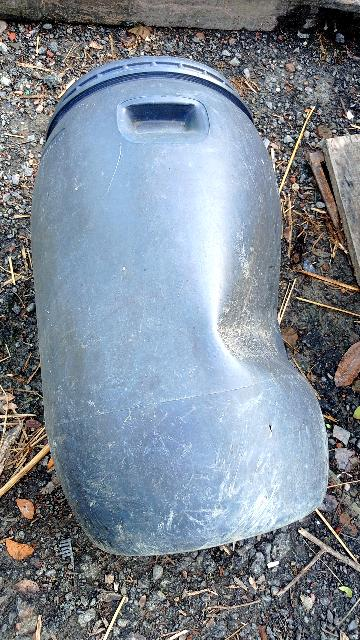hardplastic: (4, 45, 337, 552)
